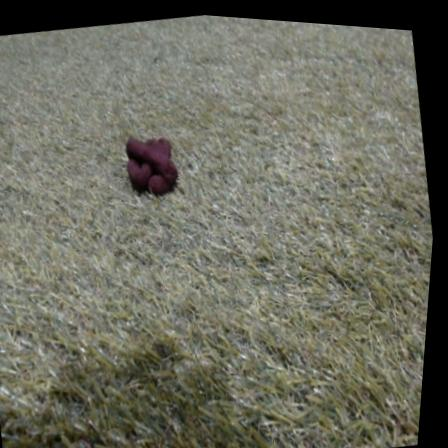dog-poop: (119, 125, 186, 196)
